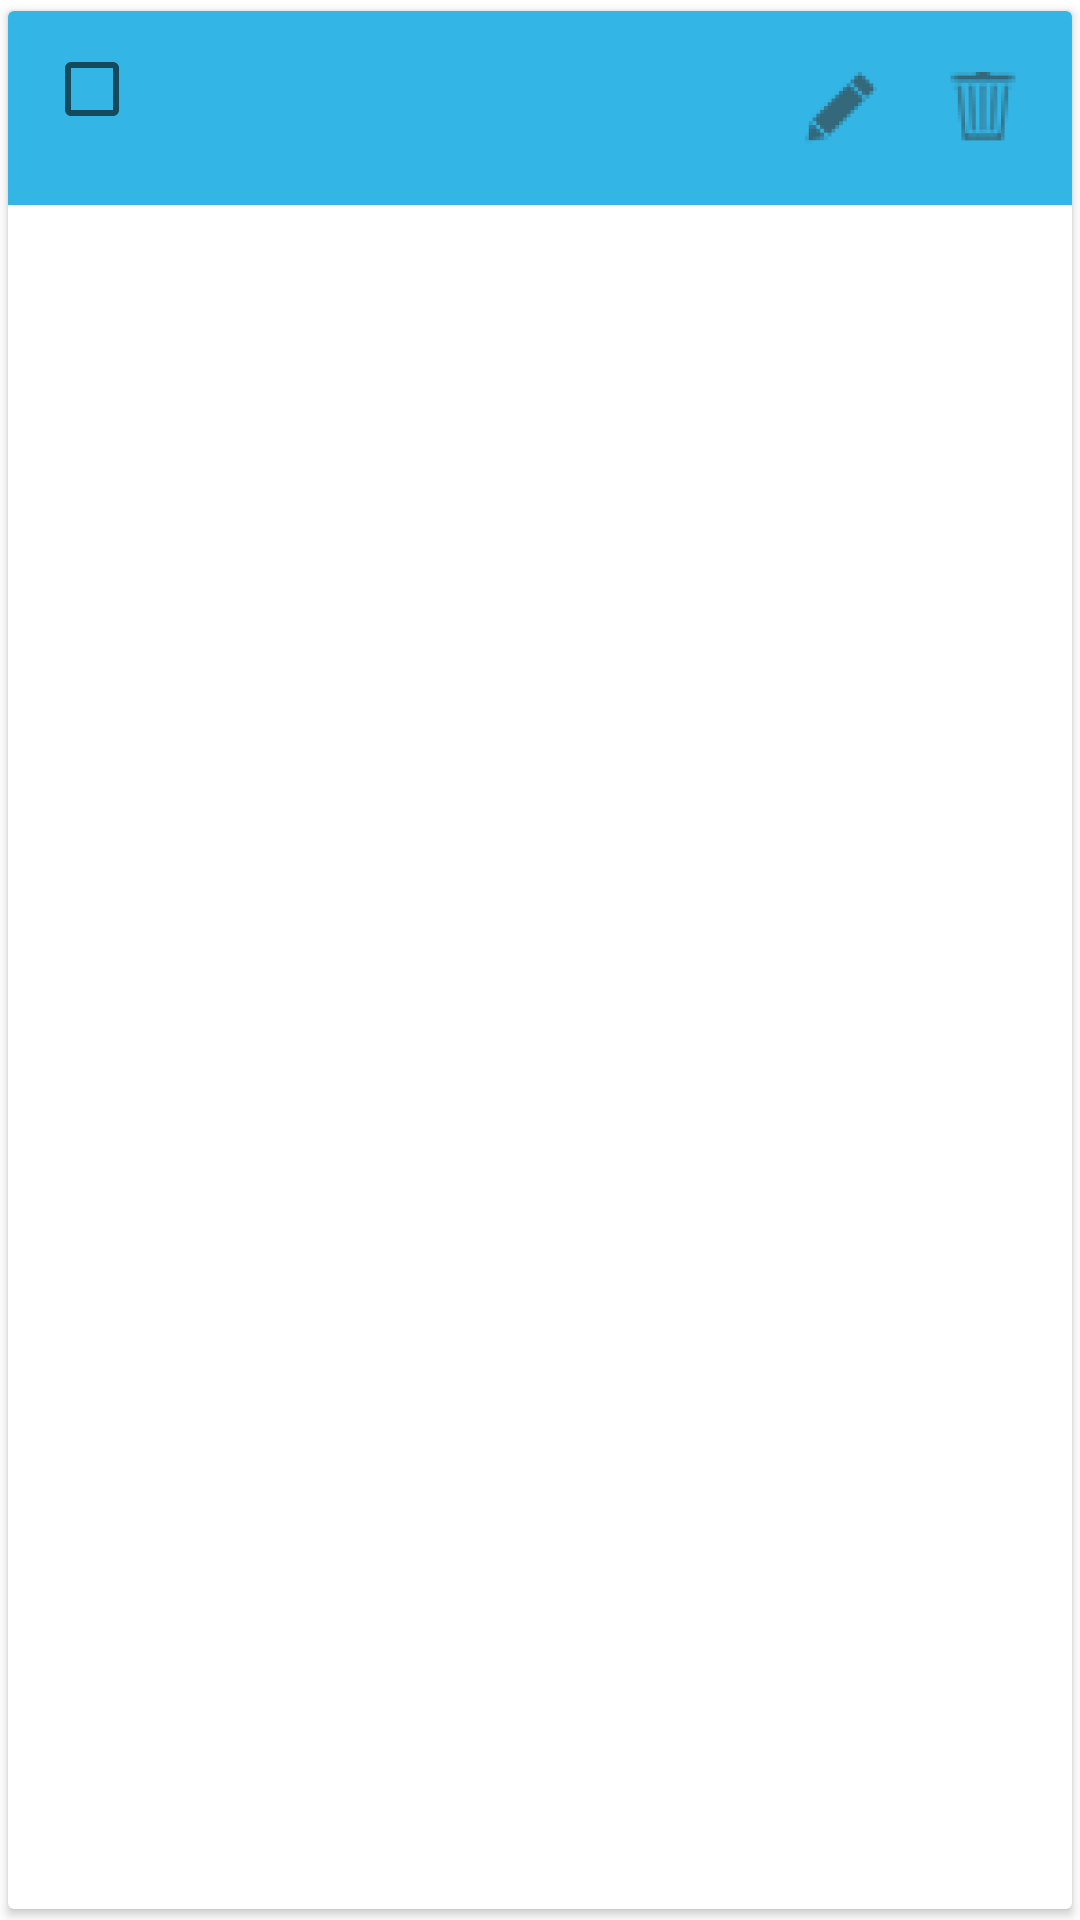

Point at icon controls on the screen. Image size 1080px×1920px, points as point (x, y).
delete: point (983, 106)
edit: point (839, 106)
